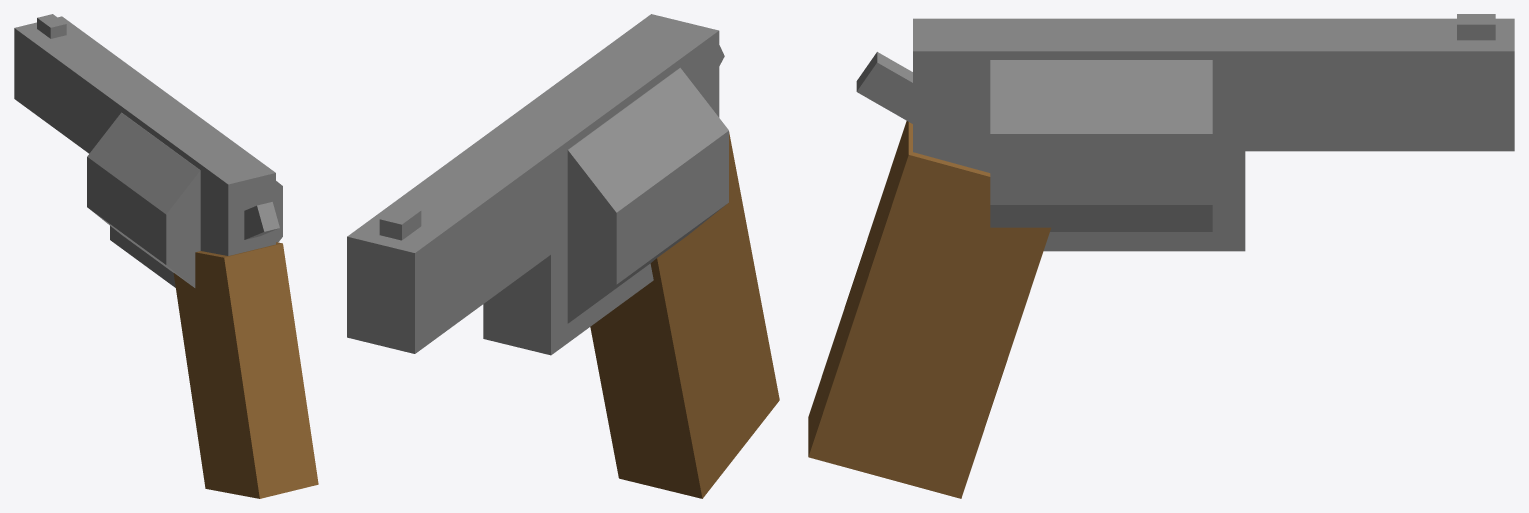
The model's file is gun.glb.
3 views of the same model, side by side, from view 1: azimuth 30°, elevation 25°; view 2: azimuth 150°, elevation 25°; view 3: azimuth 270°, elevation 25° (orthographic). The views are drawn at different scales.
Visible parts, largest first — view 1: Cube.003, Cube.004, Cylinder, Cube.002, Cube.005; view 2: Cube.004, Cube.003, Cylinder, Cube.005; view 3: Cube.004, Cube.003, Cylinder, Cube.002, Cube.005.
Part boxes in pixels (box(x1,y1,x2,y2)): Cube.003: box(173, 242, 318, 498); Cube.004: box(14, 16, 275, 287); Cylinder: box(87, 112, 282, 287); Cube.002: box(244, 202, 279, 239); Cube.005: box(37, 14, 66, 38); Cube.004: box(347, 14, 719, 355); Cube.003: box(590, 132, 779, 498); Cylinder: box(567, 67, 728, 323); Cube.005: box(379, 205, 421, 240); Cube.004: box(913, 18, 1514, 251); Cube.003: box(808, 121, 1050, 498); Cylinder: box(990, 60, 1212, 231); Cube.002: box(856, 52, 912, 123); Cube.005: box(1457, 14, 1495, 40).
Size of the model in its own units: 2.44 by 6.54 by 9.11.
